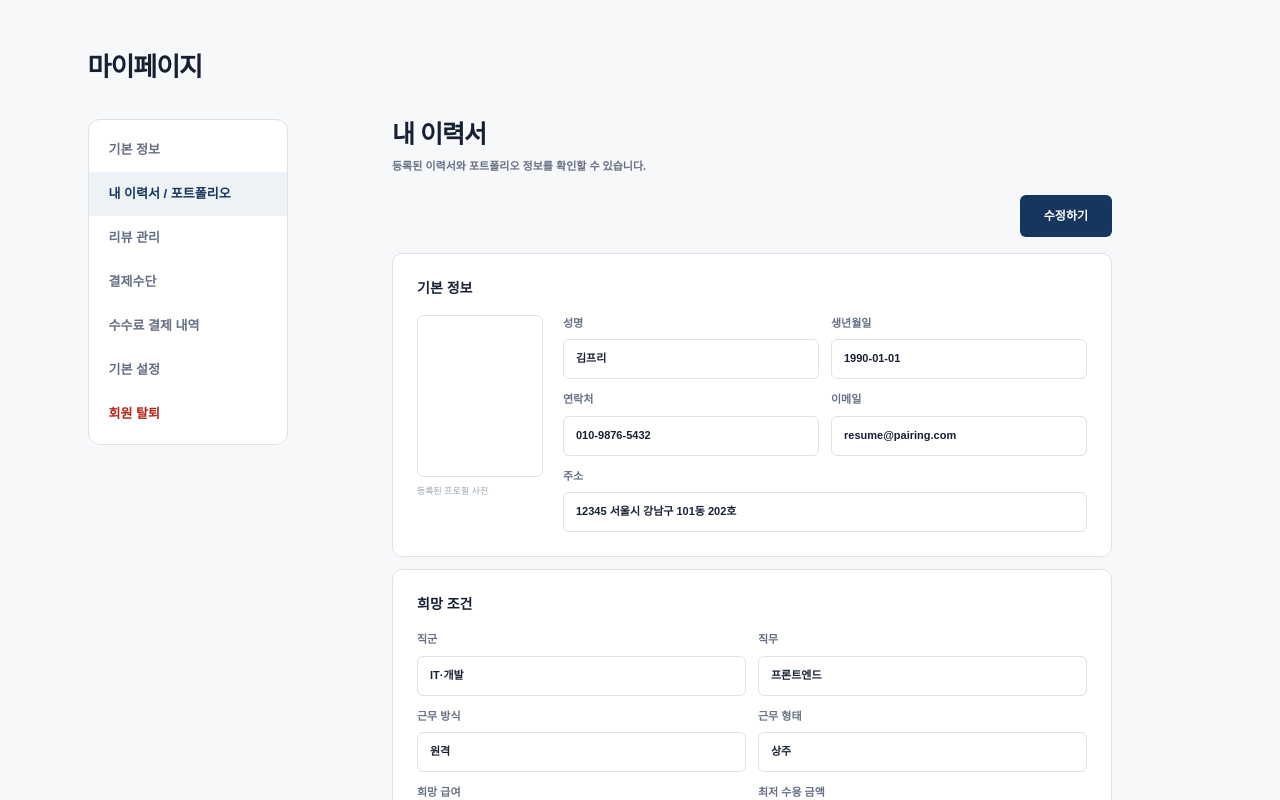
Scenario: 입력값이 유효하면 저장 후 조회 화면으로 전환된다
What coordinates should you click on to do the following:
click the button "수정하기"
I would click on:
 (1066, 216)
Its box is [1020, 195, 1112, 237].
(page scrolled)
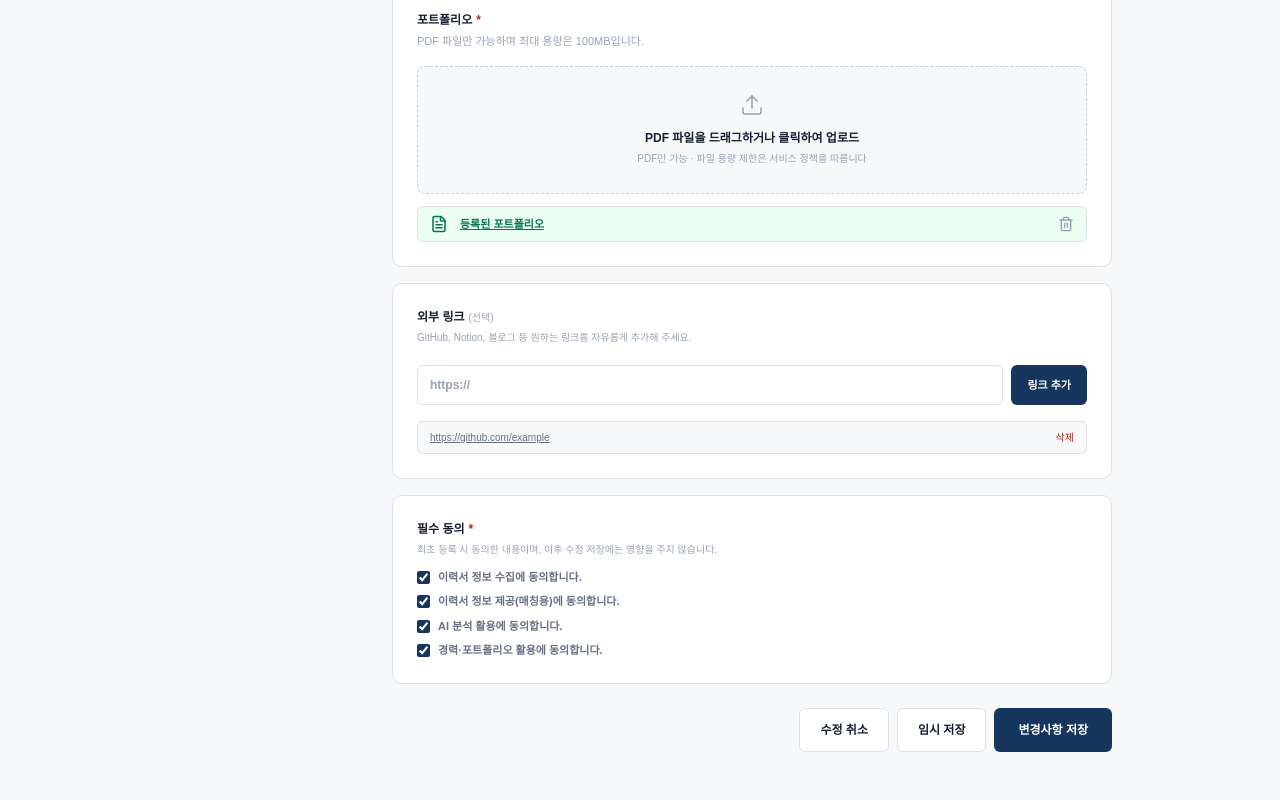
What coordinates should you click on to do the following:
click the button "변경사항 저장"
I would click on:
 (1053, 730)
Its box is [994, 708, 1112, 752].
(page scrolled)
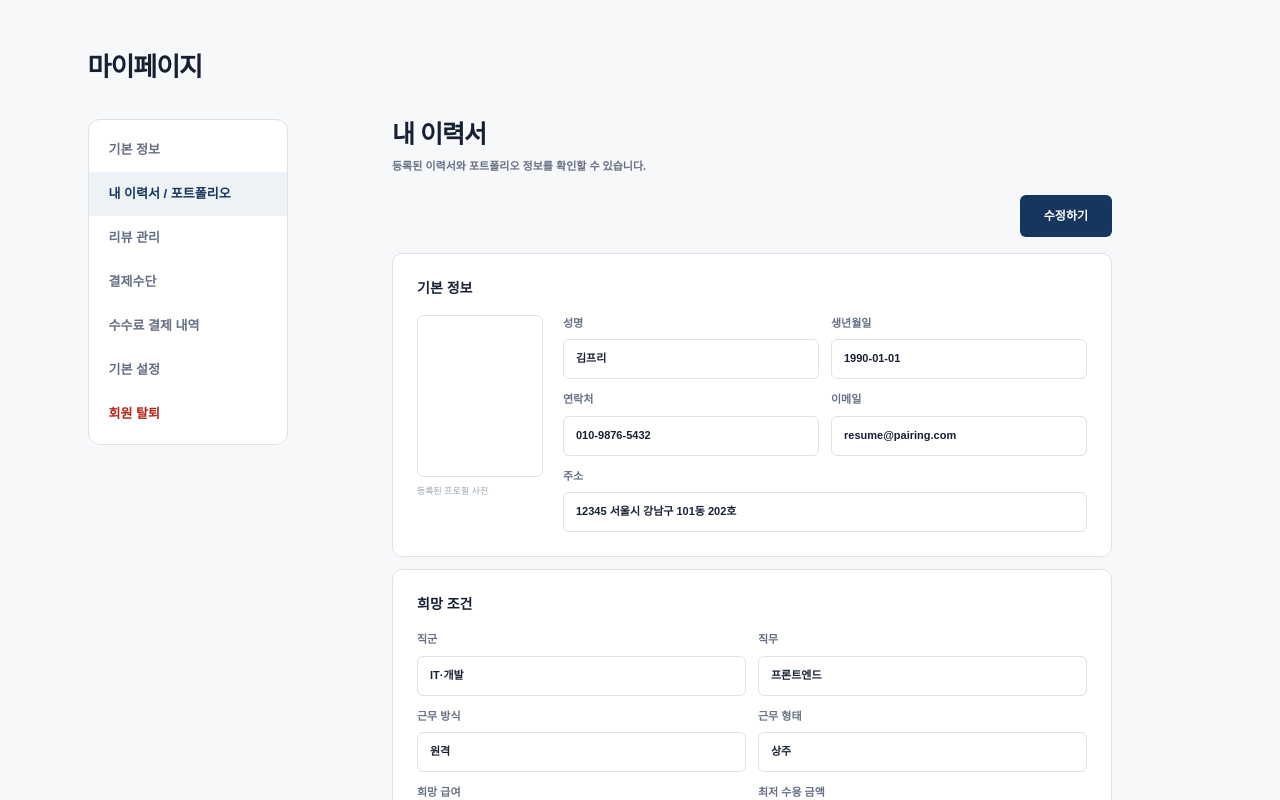
Expected: the heading "내 이력서" is shown, [392, 120, 486, 148]
Expected: the text "resume@pairing.com" is shown, [831, 416, 1087, 456]
Expected: the button "수정하기" is shown, [1020, 195, 1112, 237]
